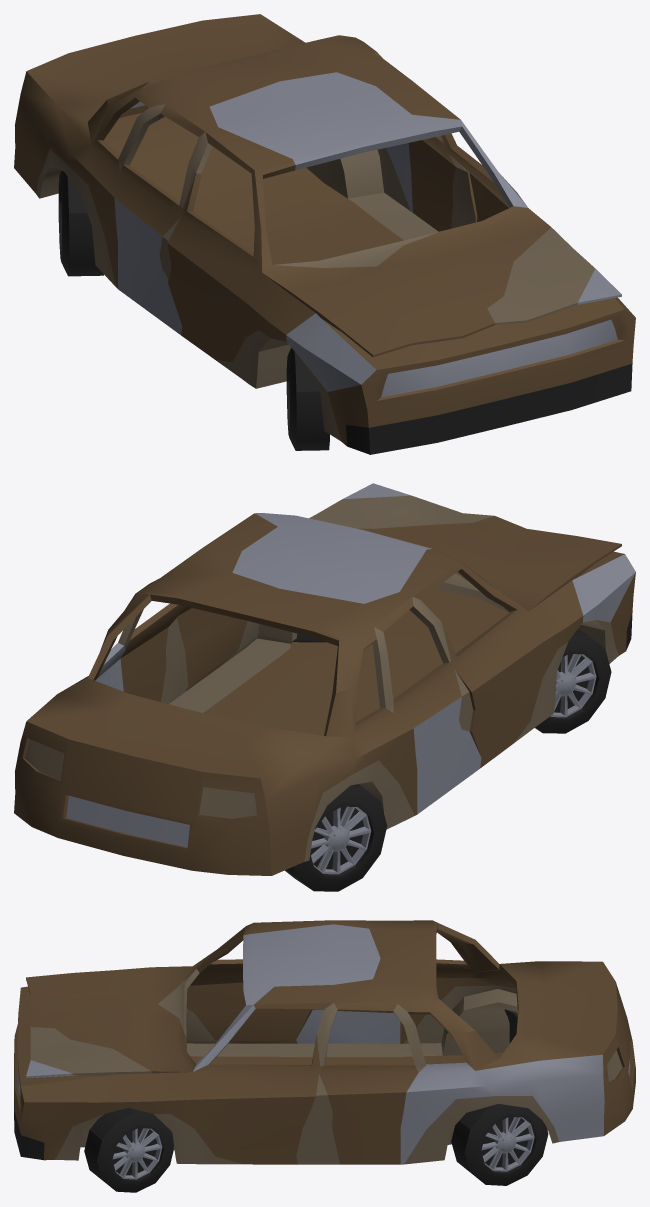
Rendered from Broken Car.glb.
The picture shows the model from 3 angles, top to bottom: view 1: azimuth 30°, elevation 25°; view 2: azimuth 150°, elevation 25°; view 3: azimuth 270°, elevation 25°; orthographic projection. The views are drawn at different scales.
Visible parts, largest first — view 1: Broken Car; view 2: Broken Car; view 3: Broken Car.
Part boxes in pixels (left/top/right/bottom): Broken Car: left=14, top=14, right=635, bottom=454; Broken Car: left=14, top=483, right=635, bottom=891; Broken Car: left=14, top=920, right=635, bottom=1192.
Bounding box in the file's own units: 0.8452 × 0.5633 × 1.76.
